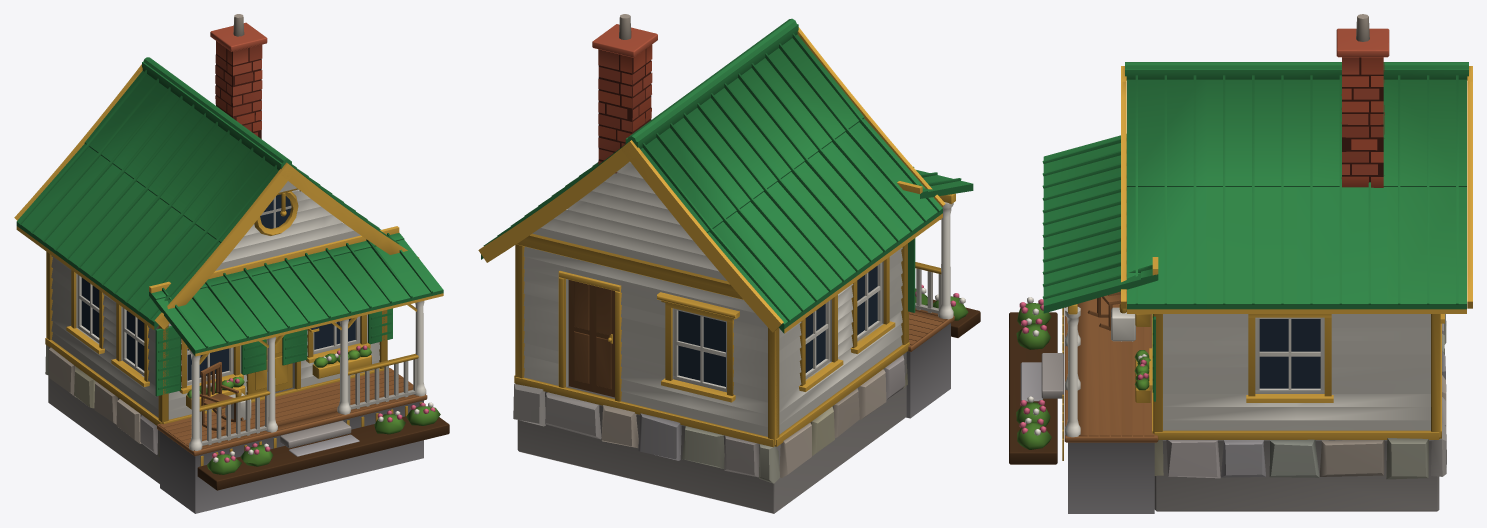
File: takamori-house-b.glb
3 views of the same model, side by side, from view 1: azimuth 30°, elevation 25°; view 2: azimuth 150°, elevation 25°; view 3: azimuth 270°, elevation 25° (orthographic). The views are drawn at different scales.
Parts seen in each view (by area): view 1: Takamori house B Roof green, Takamori house B Clapboard, Takamori house B Trim, Takamori house B Wood, Takamori house B Brick, Takamori house B Window glow, Takamori house B Leaf, Takamori house B Flowers; view 2: Takamori house B Clapboard, Takamori house B Roof green, Takamori house B Trim, Takamori house B Wood, Takamori house B Brick, Takamori house B Window glow; view 3: Takamori house B Roof green, Takamori house B Clapboard, Takamori house B Trim, Takamori house B Wood, Takamori house B Brick, Takamori house B Window glow, Takamori house B Leaf, Takamori house B Flowers.
Part boxes in pixels (x1=…): Takamori house B Roof green: x1=16, y1=57, x2=443, y2=396; Takamori house B Clapboard: x1=45, y1=14, x2=433, y2=513; Takamori house B Trim: x1=14, y1=64, x2=443, y2=466; Takamori house B Wood: x1=157, y1=362, x2=449, y2=490; Takamori house B Brick: x1=210, y1=22, x2=267, y2=138; Takamori house B Window glow: x1=81, y1=194, x2=355, y2=380; Takamori house B Leaf: x1=187, y1=347, x2=440, y2=474; Takamori house B Flowers: x1=212, y1=345, x2=435, y2=462; Takamori house B Clapboard: x1=513, y1=14, x2=965, y2=513; Takamori house B Roof green: x1=481, y1=18, x2=973, y2=333; Takamori house B Trim: x1=478, y1=27, x2=955, y2=447; Takamori house B Wood: x1=568, y1=280, x2=980, y2=397; Takamori house B Brick: x1=592, y1=24, x2=657, y2=173; Takamori house B Window glow: x1=678, y1=266, x2=877, y2=386; Takamori house B Roof green: x1=1042, y1=62, x2=1468, y2=401; Takamori house B Clapboard: x1=1020, y1=14, x2=1446, y2=513; Takamori house B Trim: x1=1062, y1=66, x2=1472, y2=460; Takamori house B Wood: x1=1009, y1=290, x2=1158, y2=464; Takamori house B Brick: x1=1336, y1=28, x2=1389, y2=187; Takamori house B Window glow: x1=1259, y1=319, x2=1320, y2=388; Takamori house B Leaf: x1=1016, y1=303, x2=1150, y2=449; Takamori house B Flowers: x1=1019, y1=299, x2=1148, y2=433.
Size of the model in its own units: 5.46 by 7.28 by 6.68.
